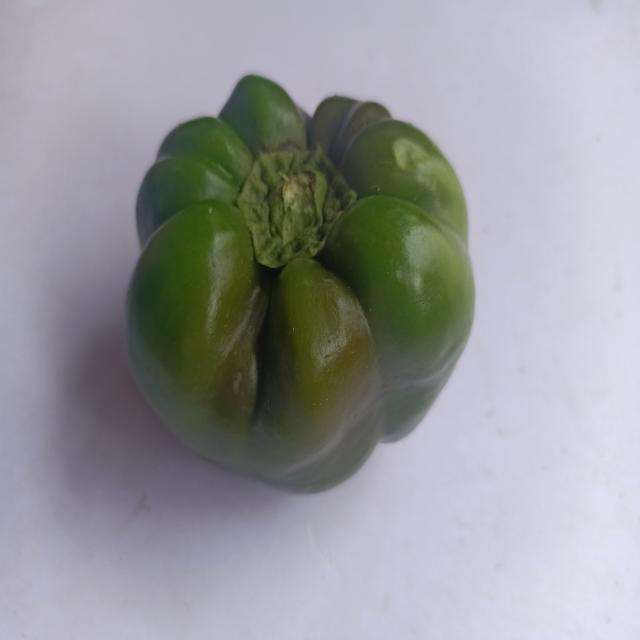Capsicum: (104, 71, 492, 513)
